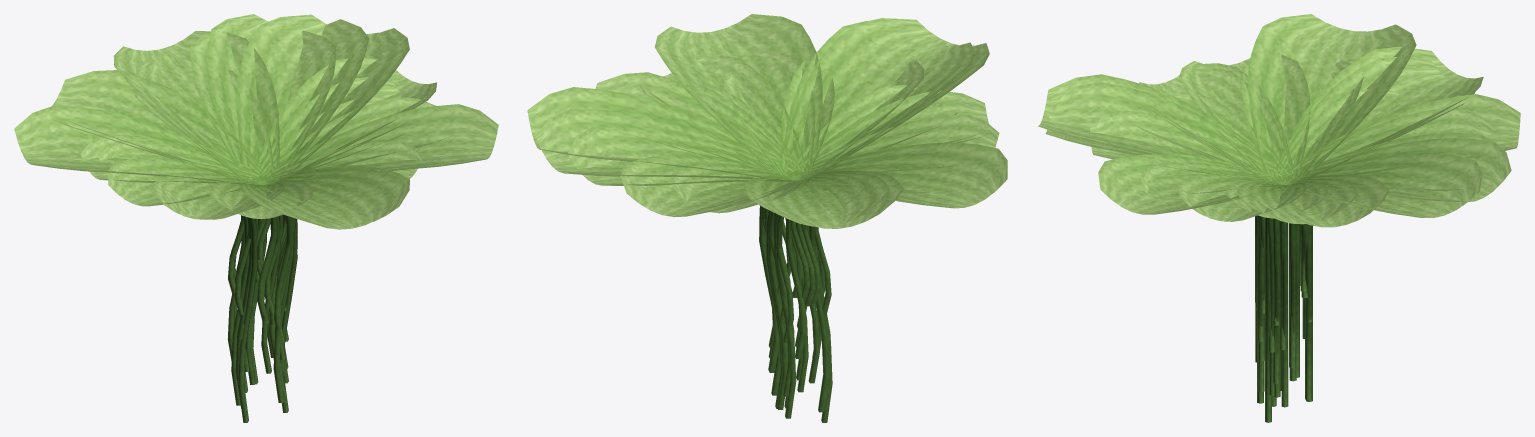
File: pistia.glb
3 views of the same model, side by side, from view 1: azimuth 30°, elevation 25°; view 2: azimuth 150°, elevation 25°; view 3: azimuth 270°, elevation 25° (orthographic). The views are drawn at different scales.
Parts seen in each view (by area): view 1: SwayPistia1, SwayPistia0, SwayPistia2, RootsPistia1, RootsPistia2, RootsPistia0; view 2: SwayPistia1, SwayPistia0, SwayPistia2, RootsPistia2, RootsPistia0, RootsPistia1; view 3: SwayPistia1, SwayPistia0, SwayPistia2, RootsPistia2, RootsPistia1, RootsPistia0.
Part boxes in pixels (x1,y1,x2,y2): SwayPistia1: (14,30,450,229); SwayPistia0: (69,14,498,226); SwayPistia2: (52,14,437,219); RootsPistia1: (234,215,297,422); RootsPistia2: (227,215,295,405); RootsPistia0: (228,214,297,412); SwayPistia1: (568,18,1007,210); SwayPistia0: (527,14,988,226); SwayPistia2: (535,50,982,228); RootsPistia2: (759,206,829,412); RootsPistia0: (761,207,831,418); RootsPistia1: (761,206,832,422); SwayPistia1: (1037,14,1492,227); SwayPistia0: (1045,57,1482,224); SwayPistia2: (1090,46,1520,218); RootsPistia2: (1256,216,1311,400); RootsPistia1: (1255,215,1312,407); RootsPistia0: (1255,216,1312,422).
Bounding box in the file's own units: 0.5593 × 0.3886 × 0.5652.
Materials: 2 (2 with a texture image).
